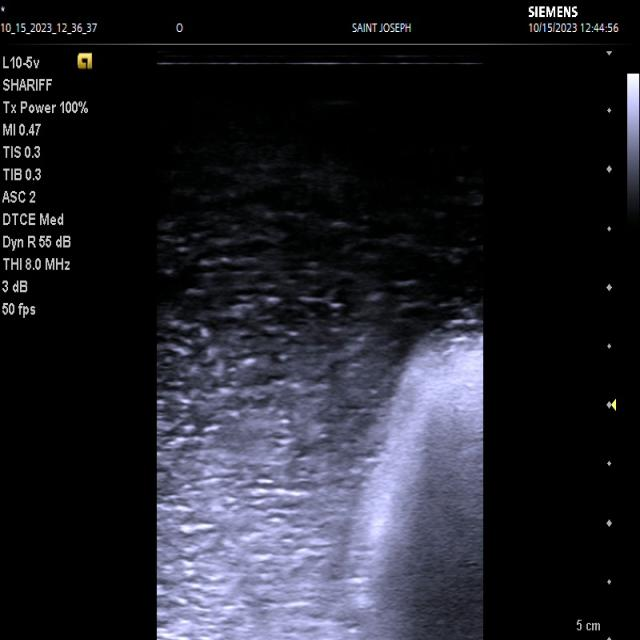tissue: (329, 315, 485, 640)
